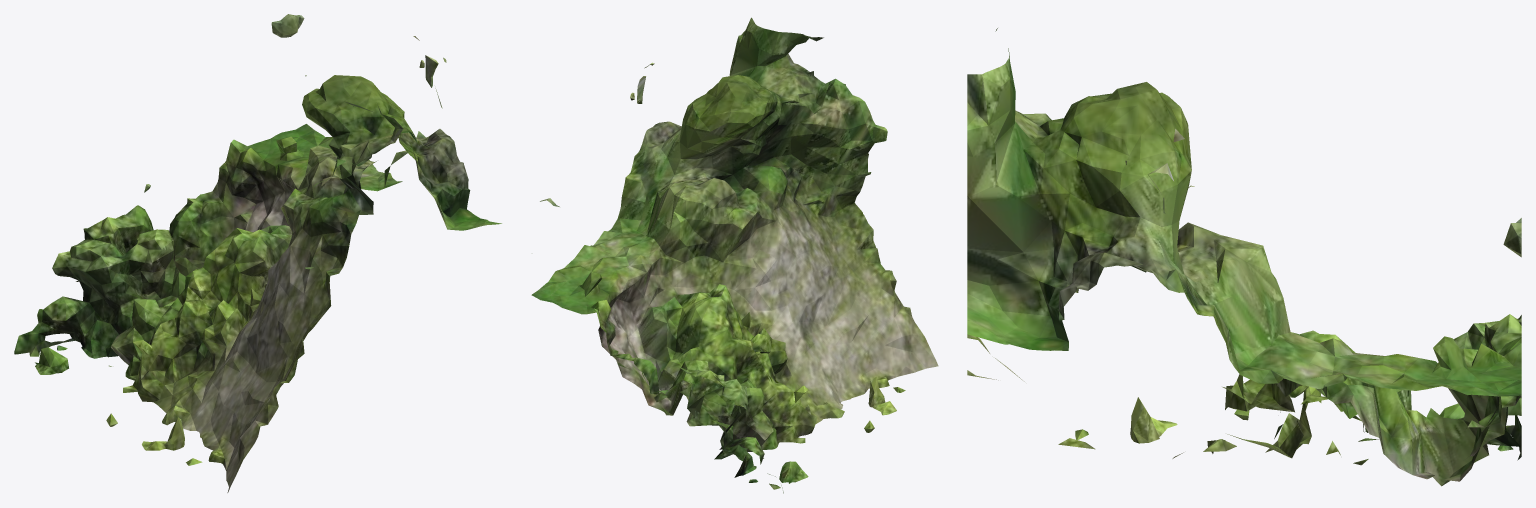
The picture shows the model from 3 angles, left to right: view 1: azimuth 30°, elevation 25°; view 2: azimuth 150°, elevation 25°; view 3: azimuth 270°, elevation 25°; orthographic projection. The views are drawn at different scales.
Bounding box in the file's own units: 22.78 × 26.11 × 26.11.
Materials: 4 (4 with a texture image).
